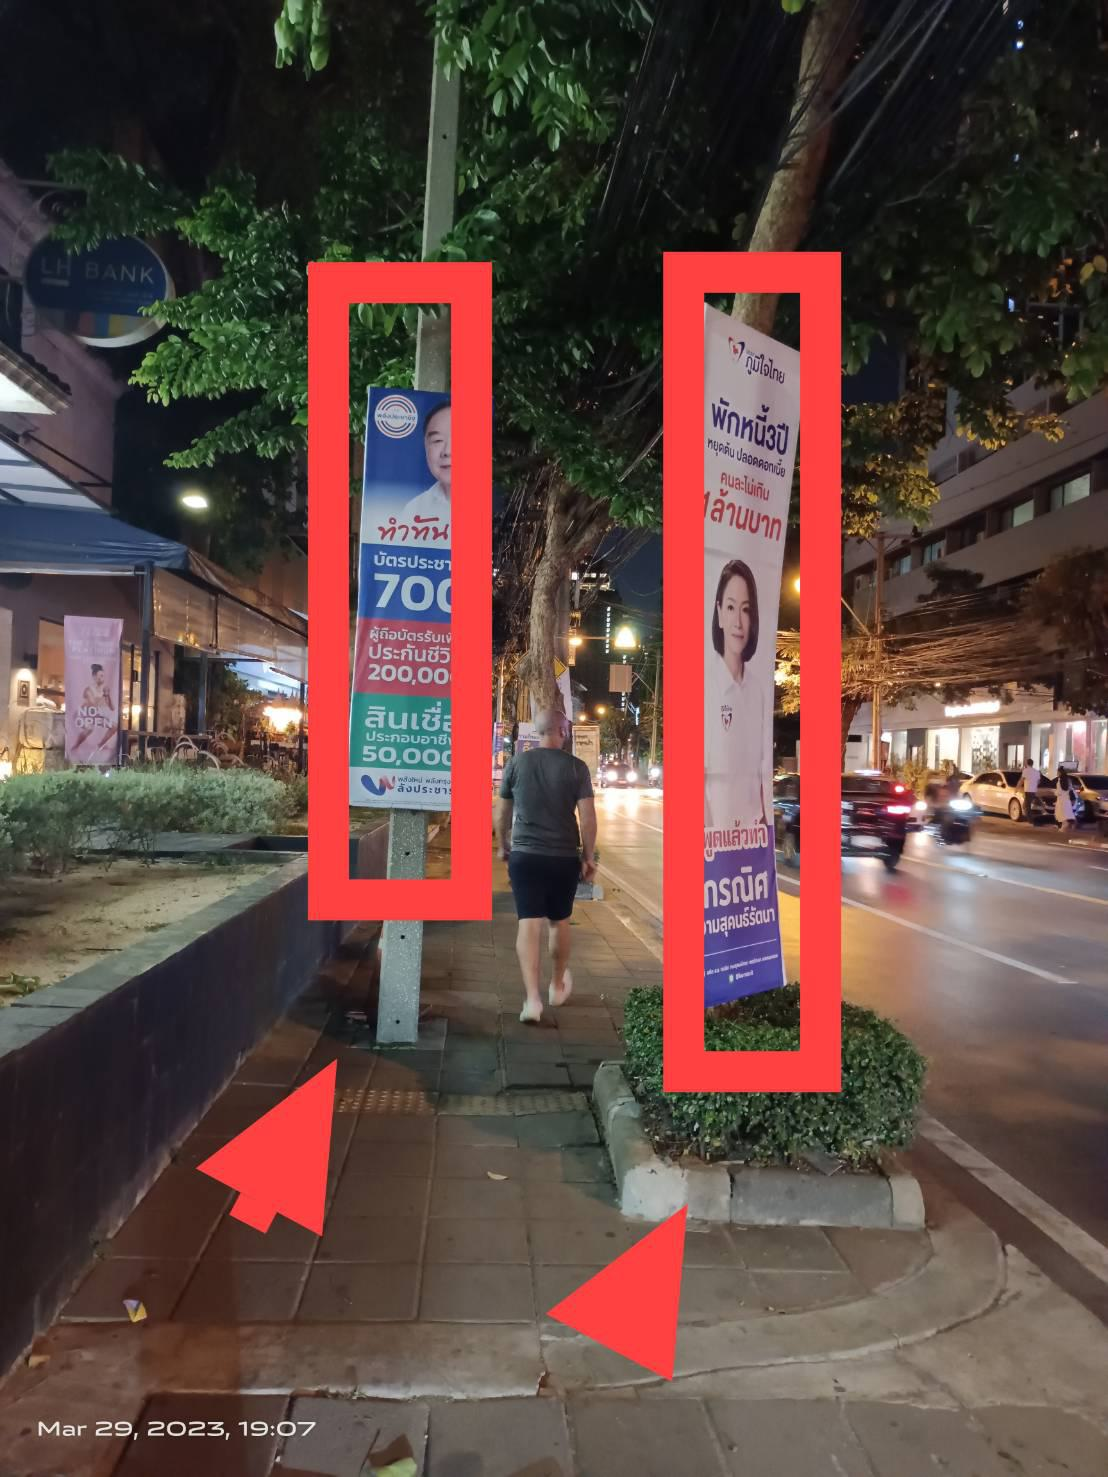Banner: (683, 289, 798, 1017), (354, 372, 463, 811)
